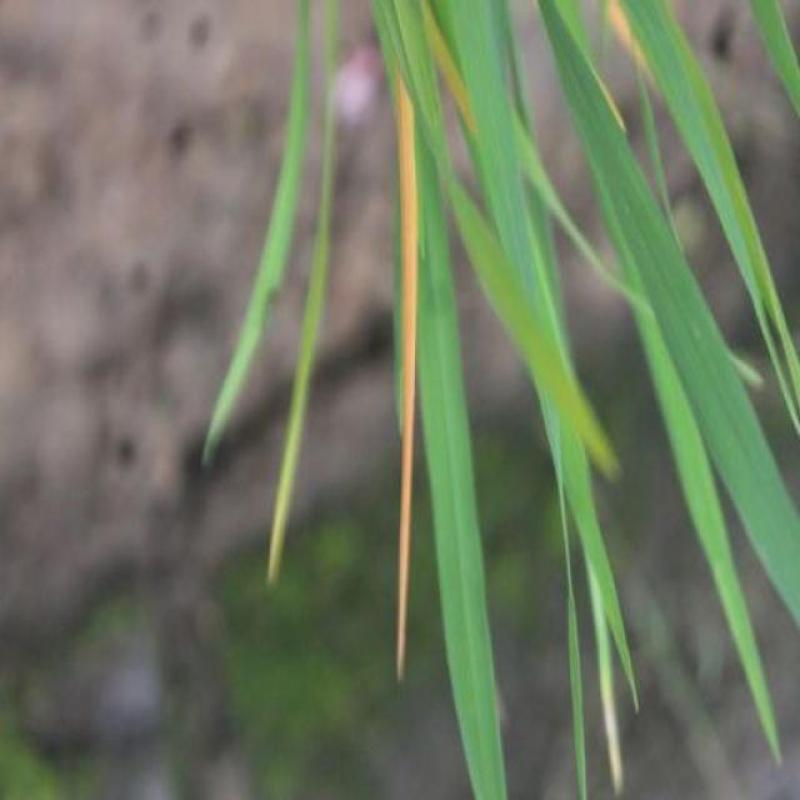Rice Tungro: (385, 94, 426, 698)
